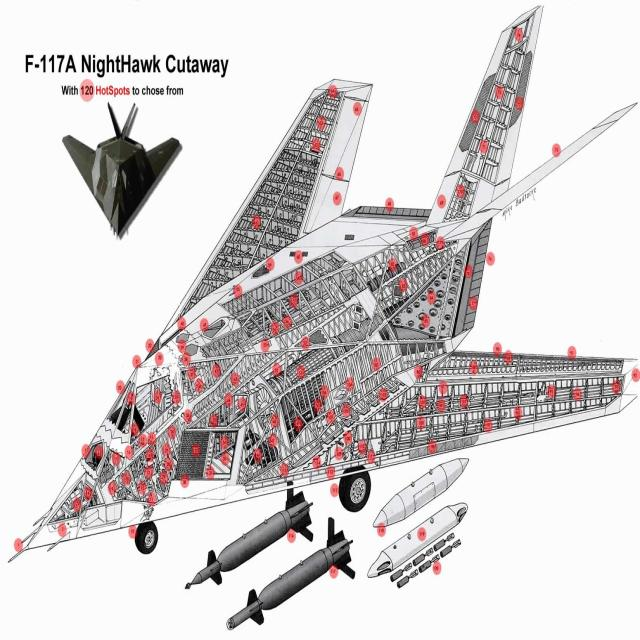F117: (9, 17, 640, 640), (51, 75, 188, 258)
